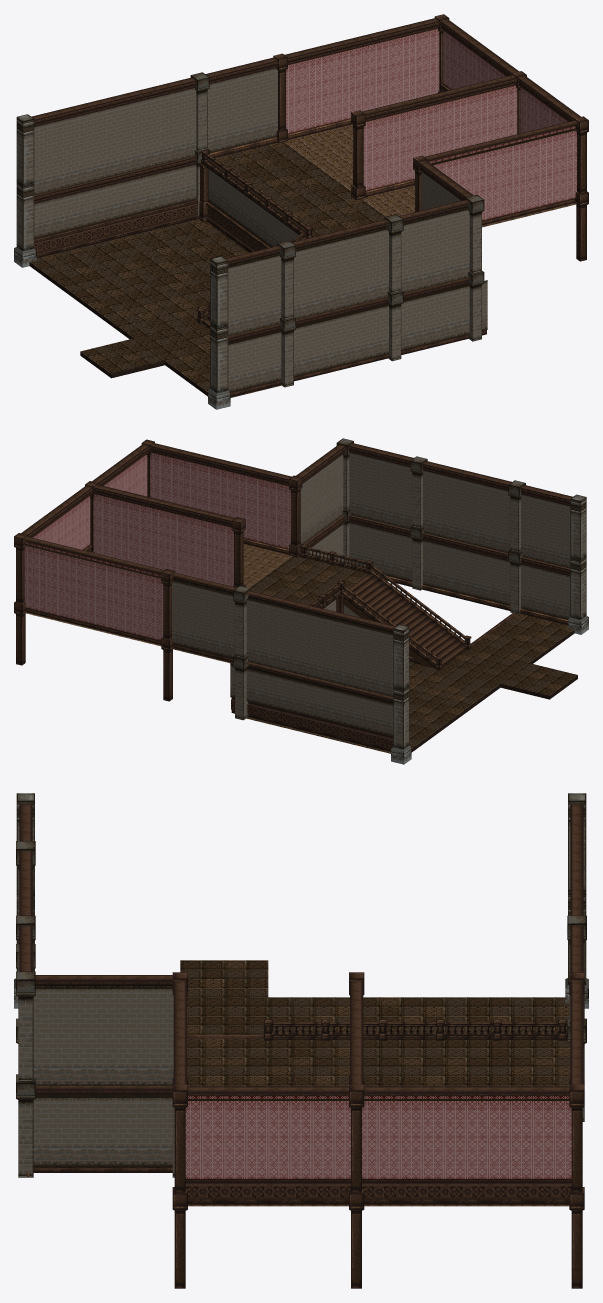
File: EnvBdgMD_Snow_Mansion_A_Indoor_A.FBX
The picture shows the model from 3 angles, top to bottom: view 1: azimuth 30°, elevation 25°; view 2: azimuth 150°, elevation 25°; view 3: azimuth 270°, elevation 25°; orthographic projection. The views are drawn at different scales.
Parts seen in each view (by area): view 1: EnvBdgMD_Snow_Mansion_A_Indoor_A; view 2: EnvBdgMD_Snow_Mansion_A_Indoor_A; view 3: EnvBdgMD_Snow_Mansion_A_Indoor_A.
Boxes of the visible parts, bbox=[...] form: EnvBdgMD_Snow_Mansion_A_Indoor_A: bbox=[14, 14, 588, 409]; EnvBdgMD_Snow_Mansion_A_Indoor_A: bbox=[14, 438, 588, 764]; EnvBdgMD_Snow_Mansion_A_Indoor_A: bbox=[14, 793, 588, 1288].
Size of the model in its own units: 3535 by 1072 by 2608.
Materials: 3 (3 with a texture image).
